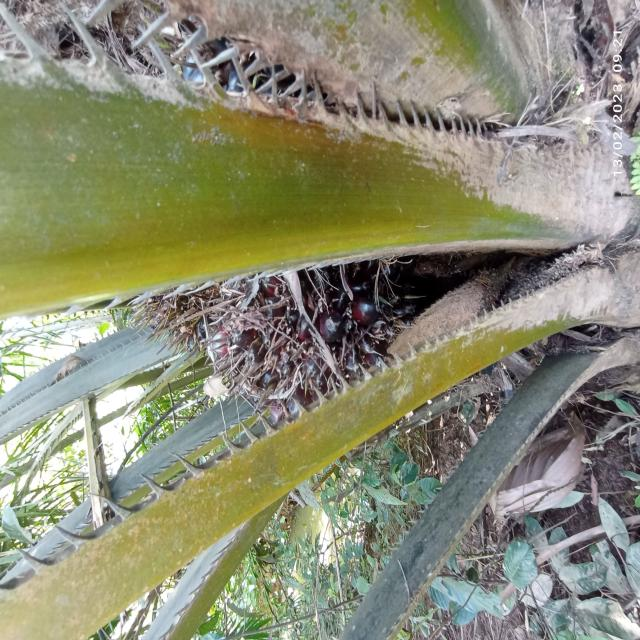fraksi 1: (163, 260, 456, 425)
